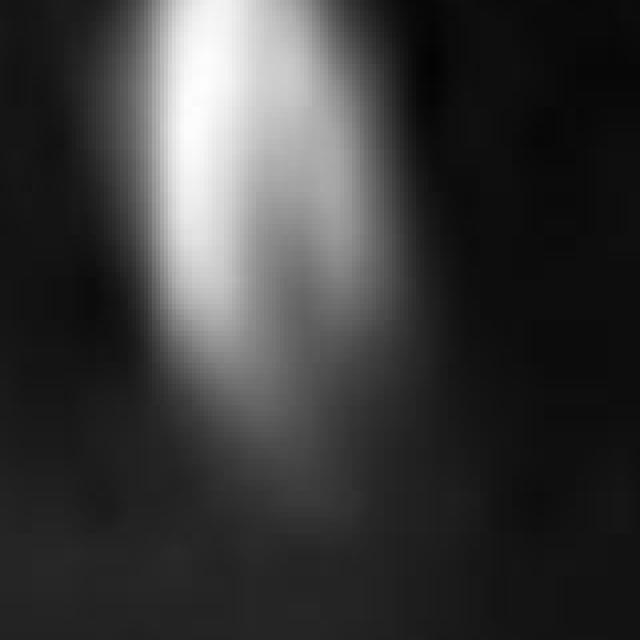person: (93, 1, 437, 454)
